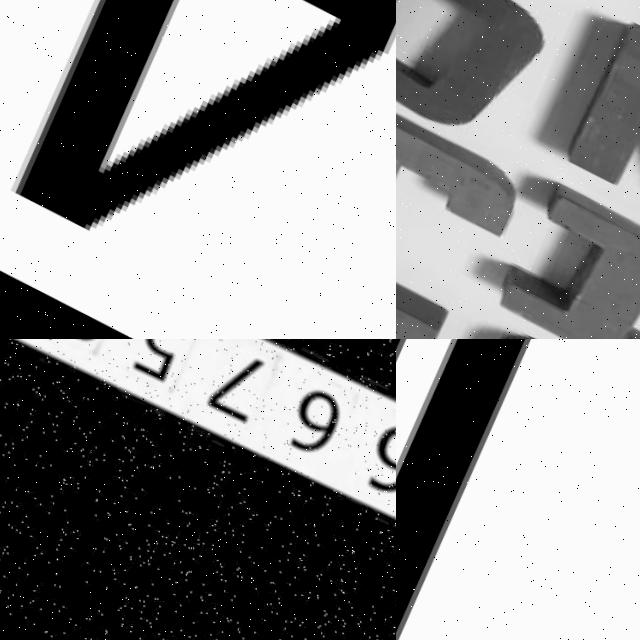5: (116, 339, 199, 396)
6: (267, 374, 357, 474), (341, 407, 396, 514)
7: (188, 339, 281, 437)
8: (41, 339, 129, 360)
H: (396, 339, 601, 640)
I: (479, 174, 640, 339)
J: (396, 87, 531, 303)
N: (536, 15, 640, 260)
O: (396, 0, 554, 148)
